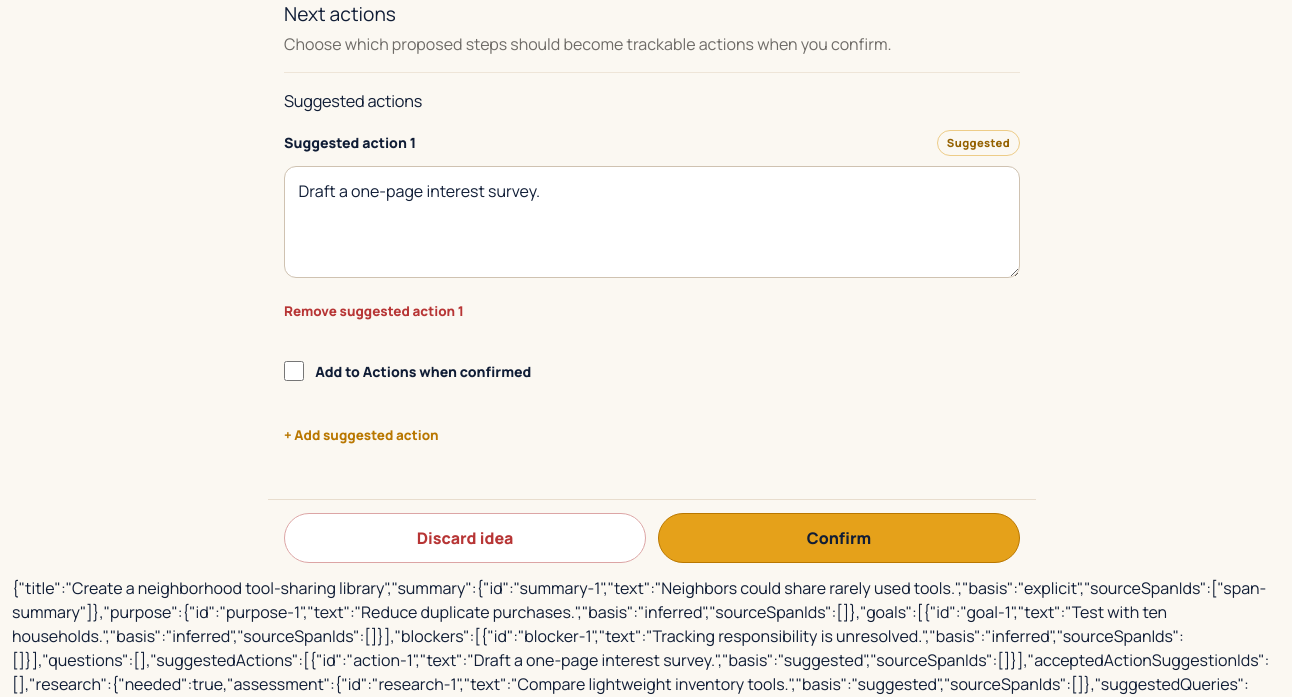
Scenario: IdeaCandidateForm controlled draft › marks new fields inferred and never permits new suggestions to become accepted action records
(page scrolled)
What coordinates should you click on to do the following:
click the button "+ Add suggested action"
I would click on:
 (361, 435)
Its box is [284,411,439,459].
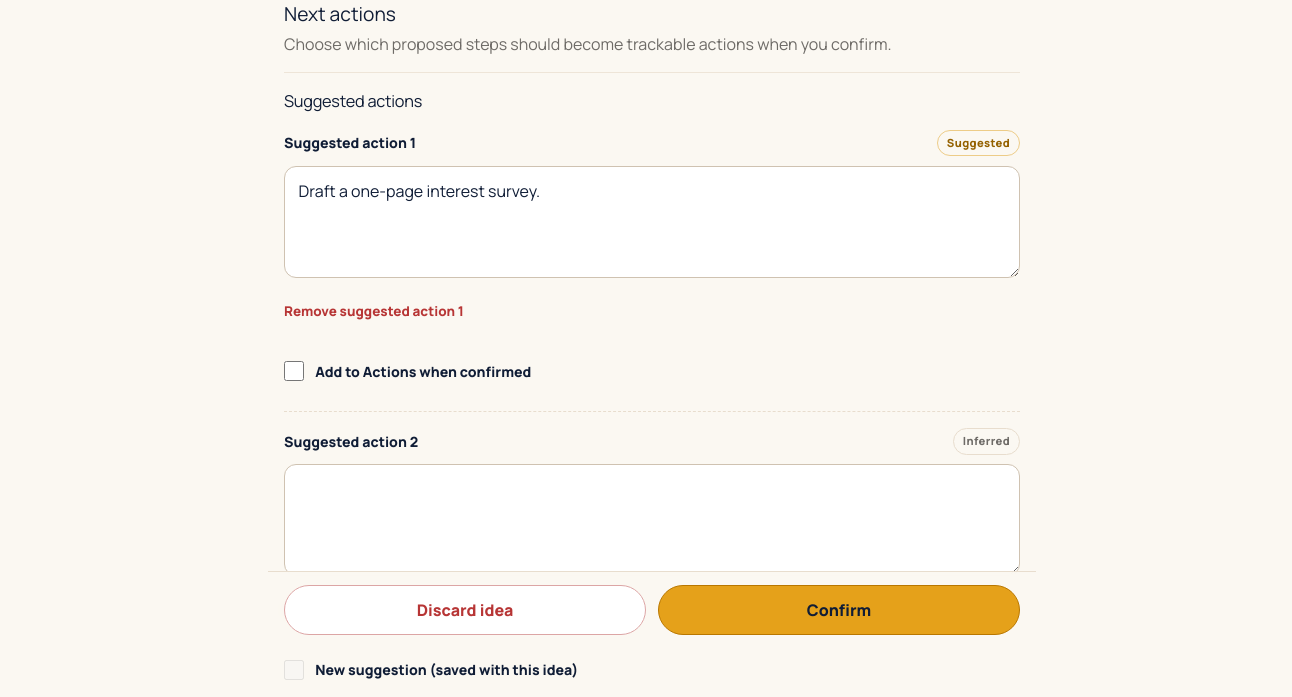
Now the checkbox labelled "New suggestion (saved with this idea)" is disabled, box [284,660,304,680]
